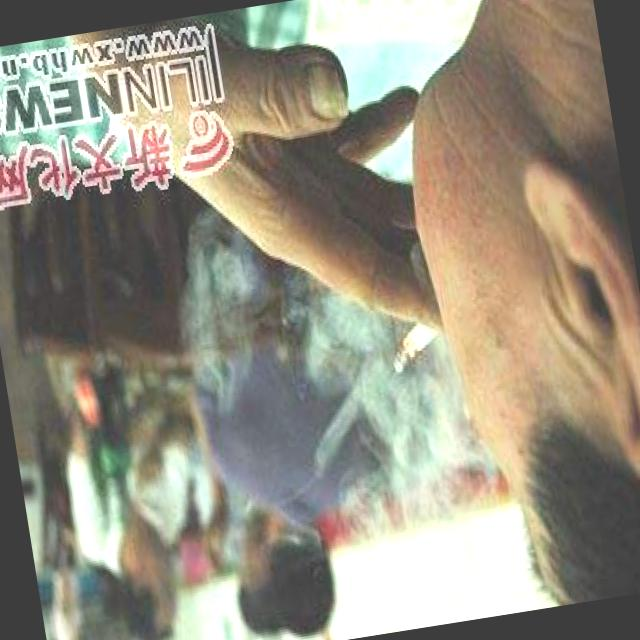cigarette: (377, 297, 462, 381)
